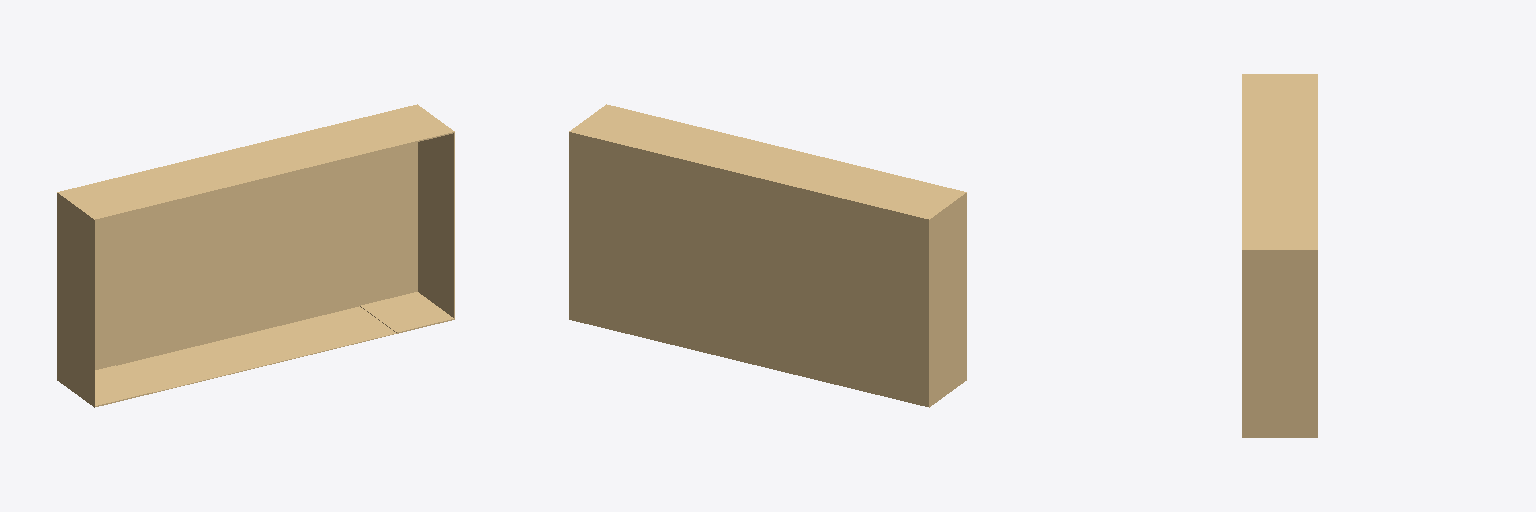
File: eske_bunn.obj
3 renders of one model, left to right at view 1: azimuth 30°, elevation 25°; view 2: azimuth 150°, elevation 25°; view 3: azimuth 270°, elevation 25°, orthographic.
Visible parts, largest first — view 1: 1; view 2: 1; view 3: 1.
Boxes of the visible parts, x1,y1,x2,y2 form: 1: [57, 104, 454, 407]; 1: [569, 104, 966, 407]; 1: [1242, 74, 1317, 437].
Size of the model in its own units: 588 by 293 by 106.